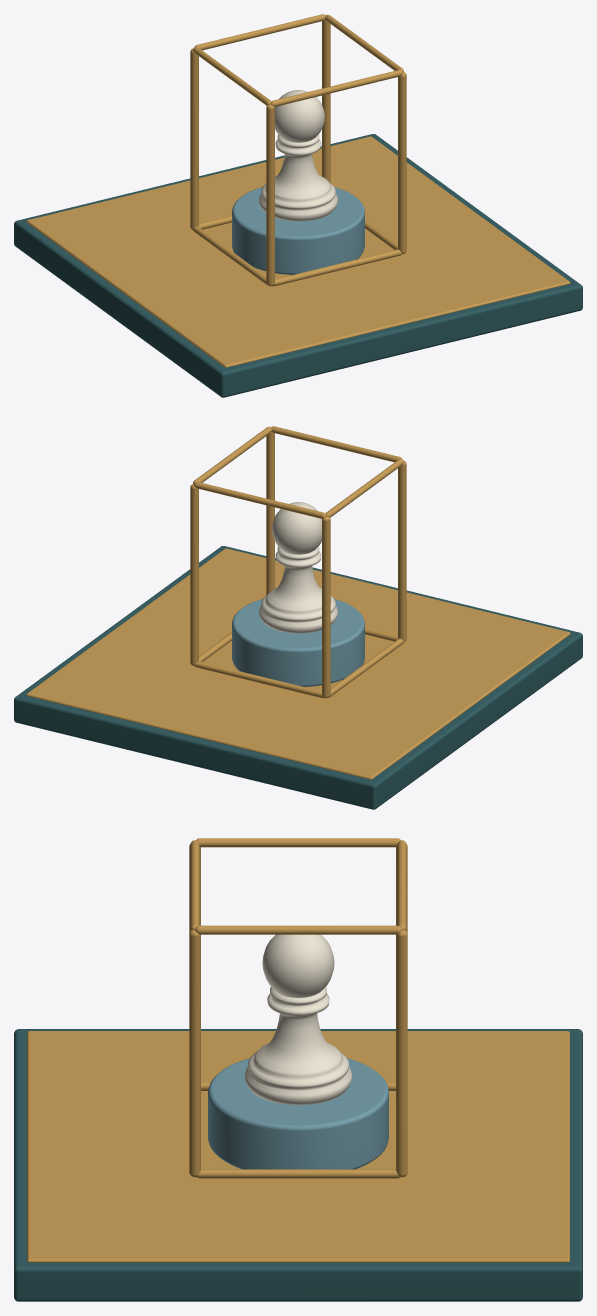
Rendered from piece.h.glb.
The picture shows the model from 3 angles, top to bottom: view 1: azimuth 30°, elevation 25°; view 2: azimuth 150°, elevation 25°; view 3: azimuth 270°, elevation 25°; orthographic projection. The views are drawn at different scales.
Parts seen in each view (by area): view 1: Cube.001, Cube, Cylinder.012, P.002, Cylinder, Cylinder.003, Cylinder.002, Cylinder.001, Cylinder.008, Cylinder.010, Cylinder.004, Cylinder.011 (+2 smaller); view 2: Cube.001, Cube, Cylinder.012, P.002, Cylinder.002, Cylinder.001, Cylinder, Cylinder.003, Cylinder.010, Cylinder.008, Cylinder.006, Cylinder.011 (+2 smaller); view 3: Cube.001, Cube, Cylinder.012, P.002, Cylinder.001, Cylinder.003, Cylinder.009, Cylinder.011, Cylinder.005, Cylinder.008, Cylinder.010.
Part boxes in pixels (bbox=[...]): Cube.001: bbox=[26, 136, 570, 367]; Cube: bbox=[14, 134, 582, 397]; Cylinder.012: bbox=[232, 187, 364, 274]; P.002: bbox=[259, 90, 337, 221]; Cylinder: bbox=[266, 104, 274, 286]; Cylinder.003: bbox=[398, 72, 406, 253]; Cylinder.002: bbox=[190, 48, 198, 229]; Cylinder.001: bbox=[322, 20, 330, 182]; Cylinder.008: bbox=[270, 70, 402, 106]; Cylinder.010: bbox=[194, 14, 325, 50]; Cylinder.004: bbox=[272, 249, 401, 286]; Cylinder.011: bbox=[193, 47, 271, 105]; Cube.001: bbox=[26, 548, 570, 779]; Cube: bbox=[14, 546, 582, 809]; Cylinder.012: bbox=[232, 599, 364, 686]; P.002: bbox=[259, 502, 337, 633]; Cylinder.002: bbox=[322, 516, 330, 698]; Cylinder.001: bbox=[190, 484, 198, 665]; Cylinder: bbox=[398, 460, 406, 641]; Cylinder.003: bbox=[266, 432, 274, 594]; Cylinder.010: bbox=[194, 482, 326, 518]; Cylinder.008: bbox=[271, 426, 402, 462]; Cylinder.006: bbox=[195, 661, 324, 698]; Cylinder.011: bbox=[325, 459, 403, 517]; Cube.001: bbox=[27, 1031, 569, 1262]; Cube: bbox=[14, 1029, 582, 1301]; Cylinder.012: bbox=[208, 1058, 388, 1169]; P.002: bbox=[244, 934, 352, 1104]; Cylinder.001: bbox=[396, 930, 407, 1177]; Cylinder.003: bbox=[189, 930, 200, 1177]; Cylinder.009: bbox=[195, 925, 401, 934]; Cylinder.011: bbox=[196, 838, 400, 847]; Cylinder.005: bbox=[197, 1169, 399, 1178]; Cylinder.008: bbox=[190, 840, 199, 930]; Cylinder.010: bbox=[397, 840, 406, 930].
Size of the model in its own units: 4.4 by 2.57 by 4.4.
